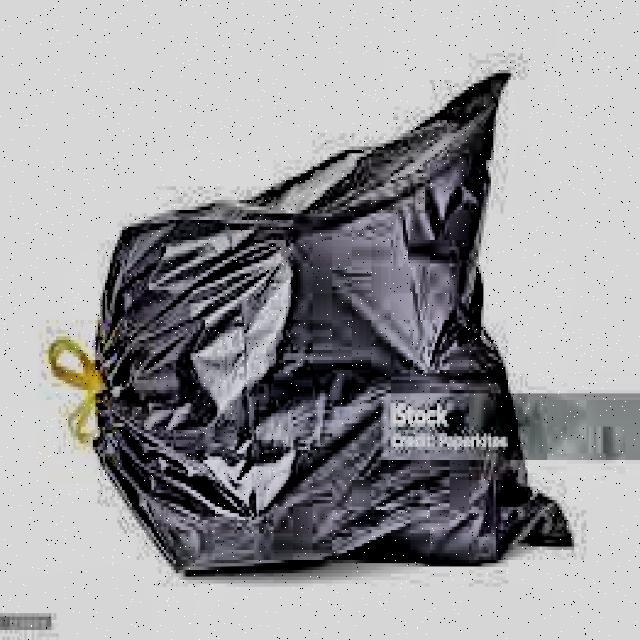Trashbag: (74, 69, 586, 577)
